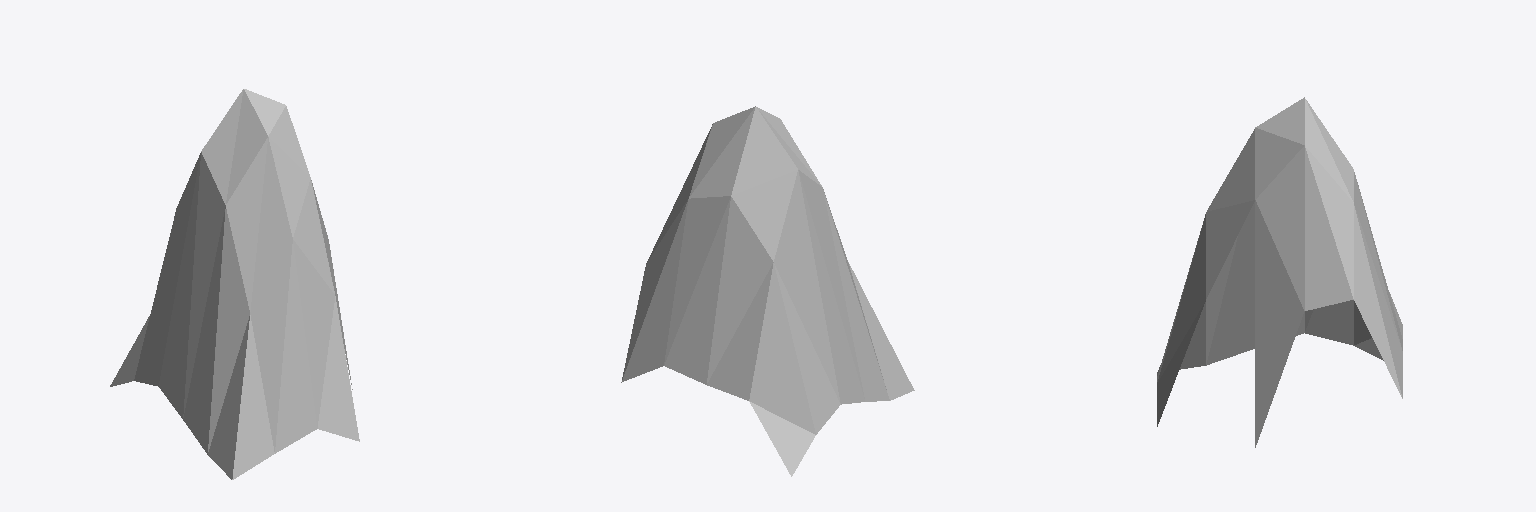
File: tree_70.obj
3 renders of one model, left to right at view 1: azimuth 30°, elevation 25°; view 2: azimuth 150°, elevation 25°; view 3: azimuth 270°, elevation 25°, orthographic.
Parts seen in each view (by area): view 1: tree_70.001; view 2: tree_70.001; view 3: tree_70.001.
Boxes of the visible parts, box(x1,y1,x2,y2) form: tree_70.001: box(110, 89, 359, 479); tree_70.001: box(621, 106, 914, 476); tree_70.001: box(1157, 97, 1402, 447).
Size of the model in its own units: 4 by 7.12 by 5.